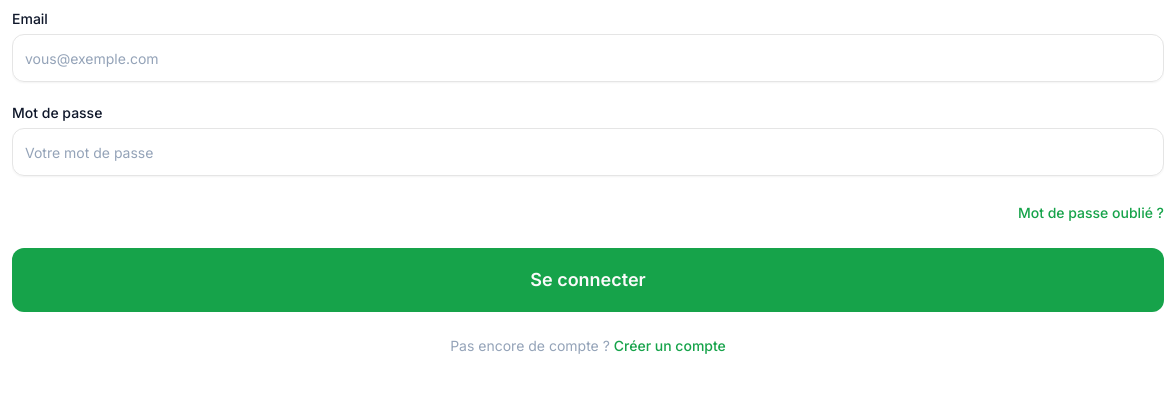
Scenario: LoginForm › should show validation error for empty email on blur
The width and height of the screenshot is (1176, 399).
Click the field labelled "Email": click(588, 58) [12,34,1164,82]
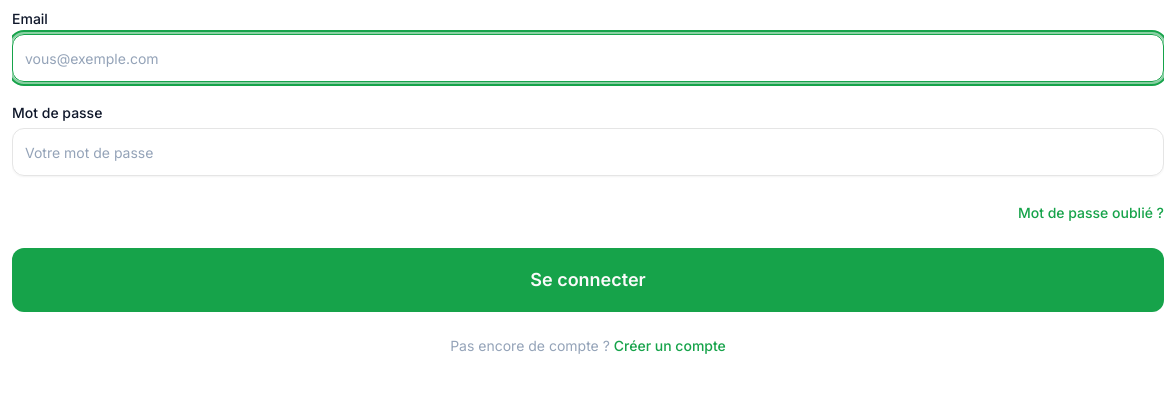
Press Tab
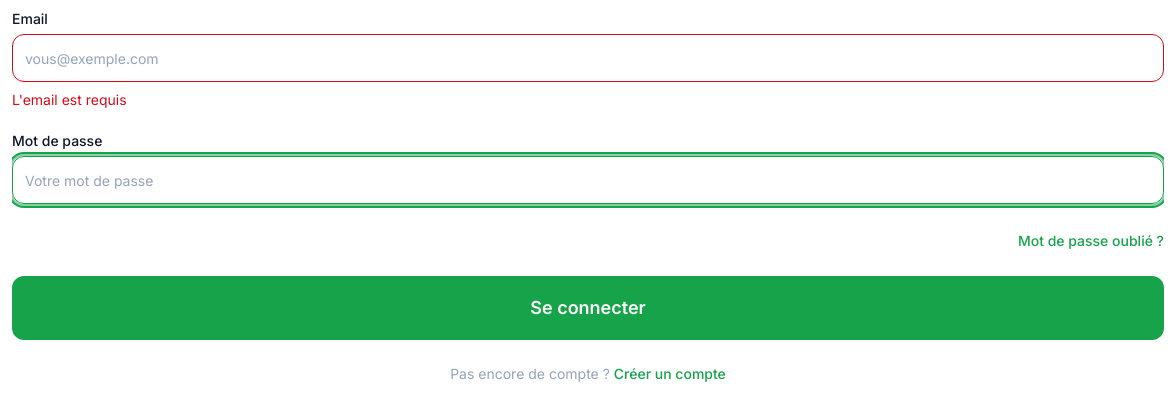
expect the text "L'email est requis" is shown: met, box [12,91,126,108]
